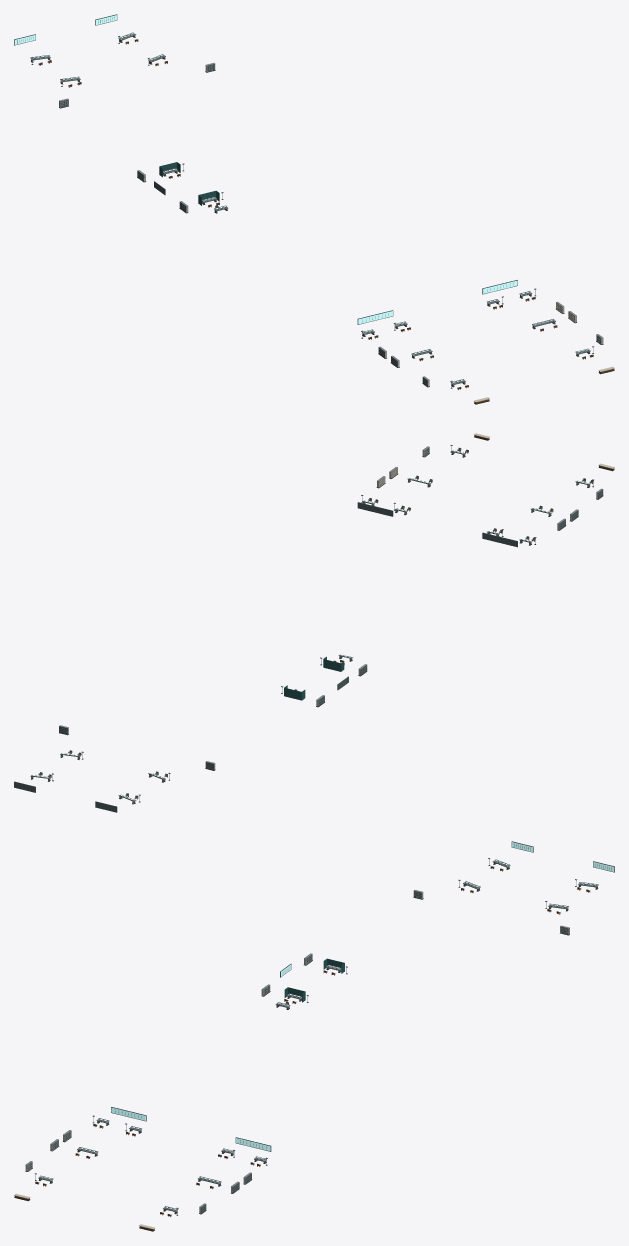
Rendered from G8_CROWN_INTERIORS_r005.glb.
3 renders of one model, top to bottom at view 1: azimuth 30°, elevation 25°; view 2: azimuth 150°, elevation 25°; view 3: azimuth 330°, elevation 25°, orthographic.
Size of the model in its own units: 67.33 by 3.45 by 306.
Materials: 17 (15 with a texture image).
